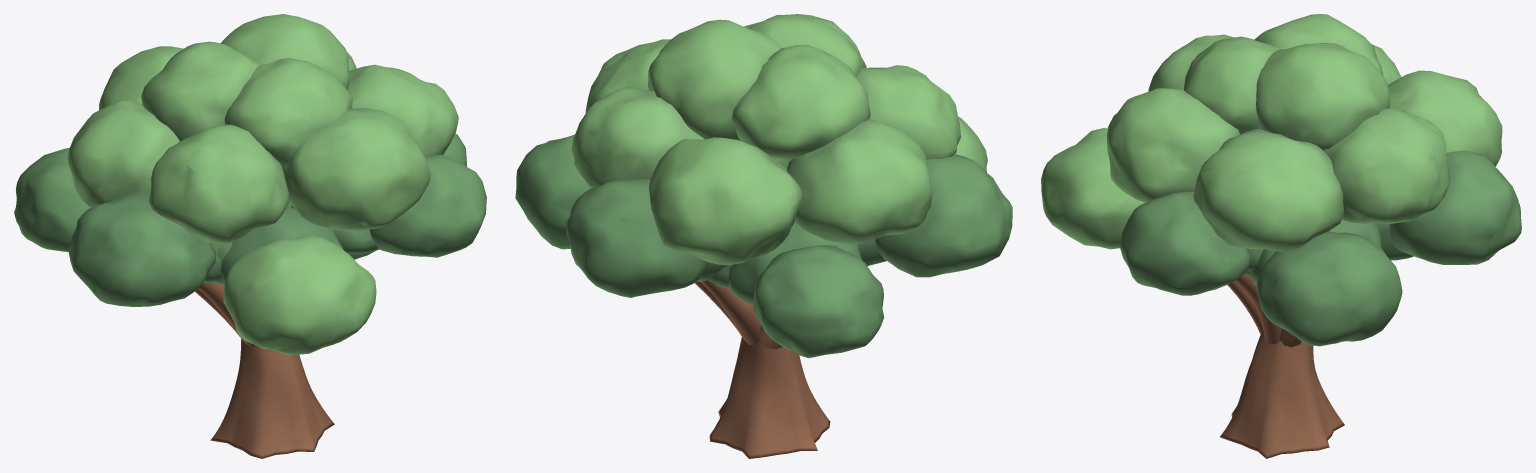
Rendered from oak-tree.glb.
3 views of the same model, side by side, from view 1: azimuth 30°, elevation 25°; view 2: azimuth 150°, elevation 25°; view 3: azimuth 270°, elevation 25° (orthographic). The views are drawn at different scales.
Parts seen in each view (by area): view 1: oak-tree_body; view 2: oak-tree_body; view 3: oak-tree_body.
Boxes of the visible parts, left/top/right/bottom form: oak-tree_body: left=14, top=14, right=486, bottom=458; oak-tree_body: left=515, top=14, right=1012, bottom=458; oak-tree_body: left=1041, top=14, right=1521, bottom=458.
Bounding box in the file's own units: 7.64 × 6.86 × 7.52.
1 material, 1 textured.
